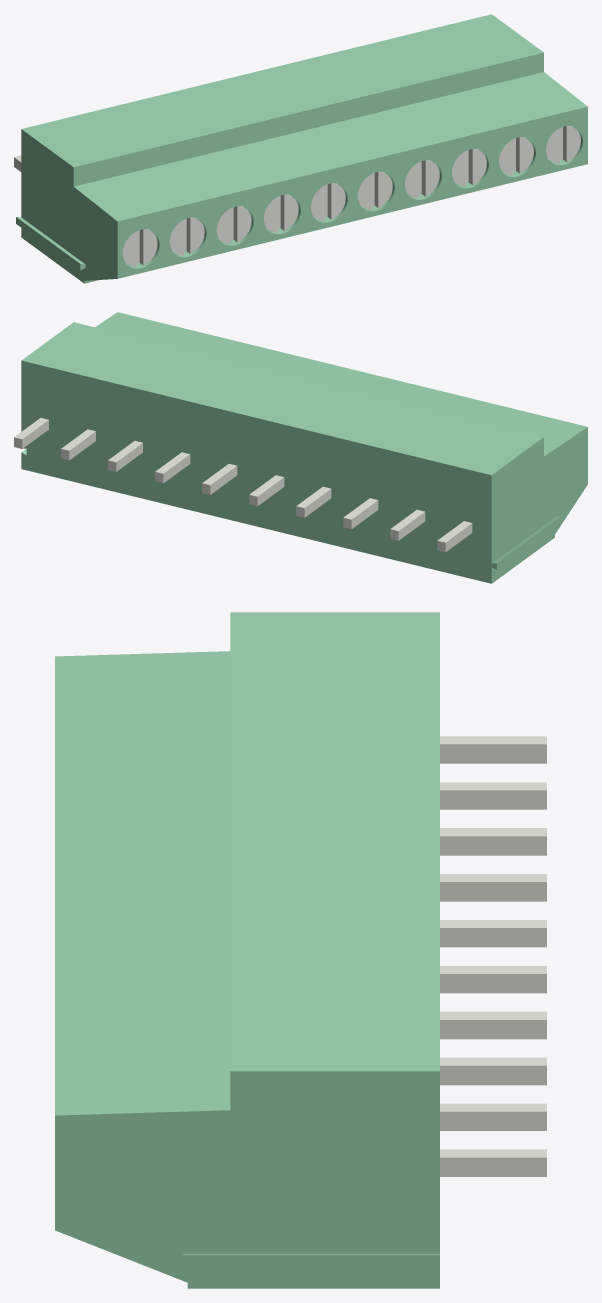
File: TerminalBlock_Phoenix_MKDS-3-10-5.08_1x10_P5.08mm_Horizontal.glb
The picture shows the model from 3 angles, top to bottom: view 1: azimuth 30°, elevation 25°; view 2: azimuth 150°, elevation 25°; view 3: azimuth 270°, elevation 25°; orthographic projection. The views are drawn at different scales.
Parts seen in each view (by area): view 1: Shape_IndexedFaceSet.005, Shape_IndexedFaceSet.003, Shape_IndexedFaceSet.002, Shape_IndexedFaceSet.004, Shape_IndexedFaceSet, Shape_IndexedFaceSet.023, Shape_IndexedFaceSet.418, Shape_IndexedFaceSet.423, Shape_IndexedFaceSet.403, Shape_IndexedFaceSet.378, Shape_IndexedFaceSet.393, Shape_IndexedFaceSet.383 (+14 smaller); view 2: Shape_IndexedFaceSet.006, Shape_IndexedFaceSet.005, Shape_IndexedFaceSet.003, Shape_IndexedFaceSet, Shape_IndexedFaceSet.023; view 3: Shape_IndexedFaceSet.005, Shape_IndexedFaceSet.003, Shape_IndexedFaceSet.012, Shape_IndexedFaceSet.030, Shape_IndexedFaceSet.034, Shape_IndexedFaceSet.038, Shape_IndexedFaceSet.042, Shape_IndexedFaceSet.046, Shape_IndexedFaceSet.050, Shape_IndexedFaceSet.054, Shape_IndexedFaceSet.058, Shape_IndexedFaceSet.062 (+12 smaller).
Part boxes in pixels (x1,y1,x2,y2): Shape_IndexedFaceSet.005: (22, 14, 543, 167); Shape_IndexedFaceSet.003: (74, 72, 587, 221); Shape_IndexedFaceSet.002: (117, 107, 587, 278); Shape_IndexedFaceSet.004: (73, 52, 543, 186); Shape_IndexedFaceSet: (21, 129, 117, 283); Shape_IndexedFaceSet.023: (16, 217, 80, 270); Shape_IndexedFaceSet.418: (519, 137, 533, 173); Shape_IndexedFaceSet.423: (566, 126, 580, 161); Shape_IndexedFaceSet.403: (472, 149, 486, 184); Shape_IndexedFaceSet.378: (425, 160, 439, 195); Shape_IndexedFaceSet.393: (331, 183, 345, 219); Shape_IndexedFaceSet.383: (378, 172, 392, 207); Shape_IndexedFaceSet.006: (21, 360, 496, 583); Shape_IndexedFaceSet.005: (21, 322, 543, 475); Shape_IndexedFaceSet.003: (95, 312, 587, 455); Shape_IndexedFaceSet: (491, 427, 587, 583); Shape_IndexedFaceSet.023: (497, 516, 561, 569); Shape_IndexedFaceSet.005: (230, 612, 439, 1071); Shape_IndexedFaceSet.003: (55, 651, 230, 1115); Shape_IndexedFaceSet.012: (55, 1071, 439, 1288); Shape_IndexedFaceSet.030: (440, 1065, 546, 1085); Shape_IndexedFaceSet.034: (440, 1020, 546, 1039); Shape_IndexedFaceSet.038: (440, 882, 546, 901); Shape_IndexedFaceSet.042: (440, 974, 546, 993); Shape_IndexedFaceSet.046: (440, 928, 546, 947); Shape_IndexedFaceSet.050: (440, 744, 546, 763); Shape_IndexedFaceSet.054: (440, 790, 546, 809); Shape_IndexedFaceSet.058: (440, 836, 546, 855); Shape_IndexedFaceSet.062: (440, 1111, 546, 1130).
Size of the model in its own units: 20.22 by 4.41 by 9.06.
